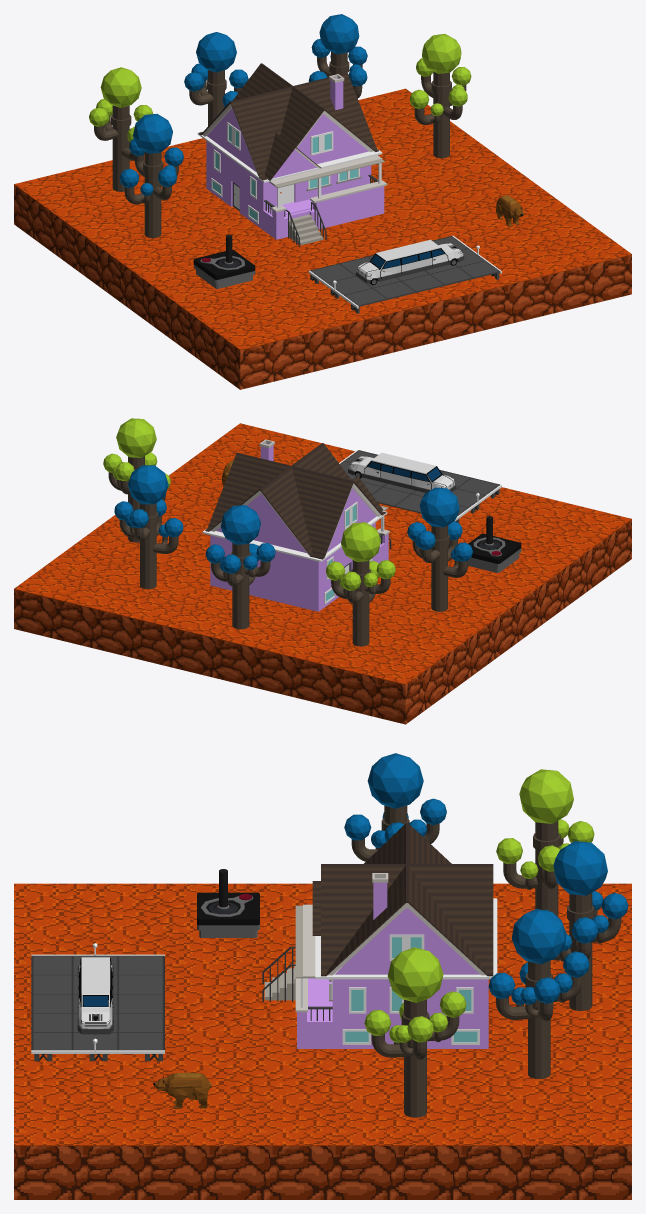
3 views of the same model, one above another, from view 1: azimuth 30°, elevation 25°; view 2: azimuth 150°, elevation 25°; view 3: azimuth 270°, elevation 25° (orthographic). The views are drawn at different scales.
Parts seen in each view (by area): view 1: Cube.001, Cube.391, VEHICLES_LIMOUSINE, OBJRANDOM_JOYSTICK, ANIMAL_OSO; view 2: Cube.001, Cube.391, VEHICLES_LIMOUSINE, OBJRANDOM_JOYSTICK; view 3: Cube.001, Cube.391, OBJRANDOM_JOYSTICK, VEHICLES_LIMOUSINE, ANIMAL_OSO.
Part boxes in pixels (box(x1,y1,x2,y2)): Cube.001: box(14, 14, 631, 389); Cube.391: box(197, 63, 387, 246); VEHICLES_LIMOUSINE: box(355, 239, 464, 285); OBJRANDOM_JOYSTICK: box(193, 234, 255, 288); ANIMAL_OSO: box(496, 195, 524, 226); Cube.001: box(14, 418, 631, 724); Cube.391: box(202, 439, 391, 611); VEHICLES_LIMOUSINE: box(348, 452, 456, 492); OBJRANDOM_JOYSTICK: box(468, 516, 521, 572); Cube.001: box(14, 753, 631, 1199); Cube.391: box(262, 823, 497, 1048); OBJRANDOM_JOYSTICK: box(197, 869, 259, 937); VEHICLES_LIMOUSINE: box(77, 957, 113, 1034); ANIMAL_OSO: box(153, 1072, 211, 1108).
Bounding box in the file's own units: 4000 × 1687 × 4000.
39 materials, 5 textured.
